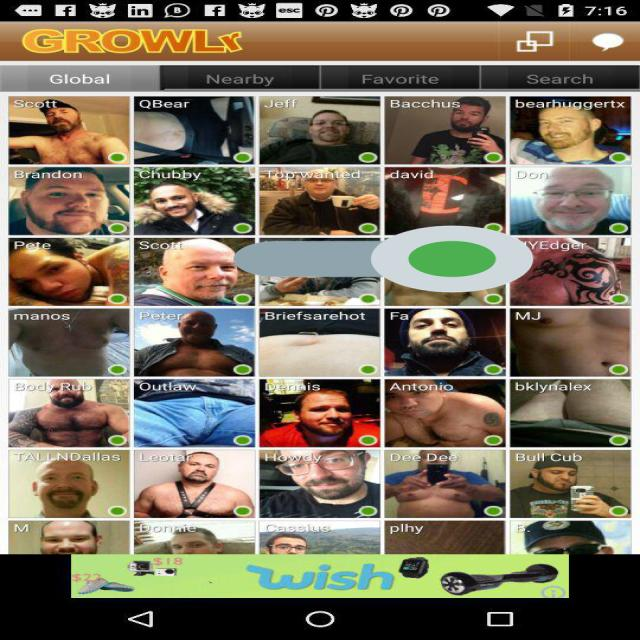social proof: (234, 197, 534, 321)
